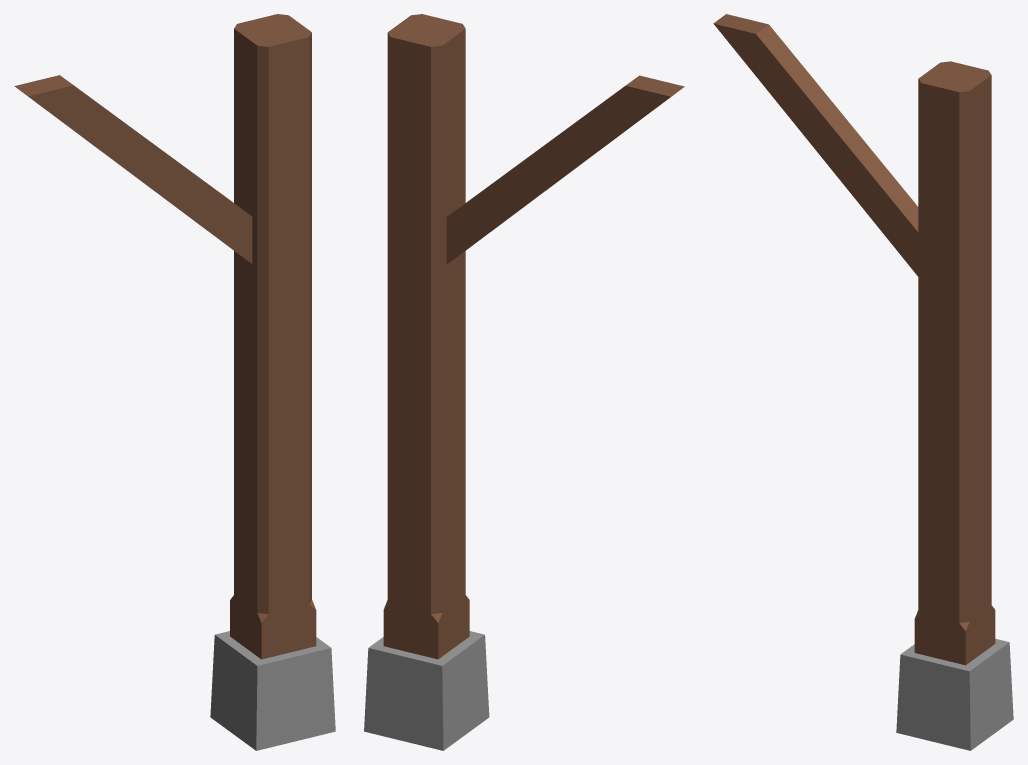
File: Column_1.fbx
3 renders of one model, left to right at view 1: azimuth 30°, elevation 25°; view 2: azimuth 150°, elevation 25°; view 3: azimuth 330°, elevation 25°, orthographic. The views are drawn at different scales.
Parts seen in each view (by area): view 1: Stützpfeiler_1; view 2: Stützpfeiler_1; view 3: Stützpfeiler_1.
Part boxes in pixels (box(x1,y1,x2,y2)): Stützpfeiler_1: box(14, 14, 335, 750); Stützpfeiler_1: box(364, 14, 684, 750); Stützpfeiler_1: box(713, 14, 1013, 750).
Size of the model in its own units: 207 by 472 by 56.55.
Materials: 1 (1 with a texture image).
